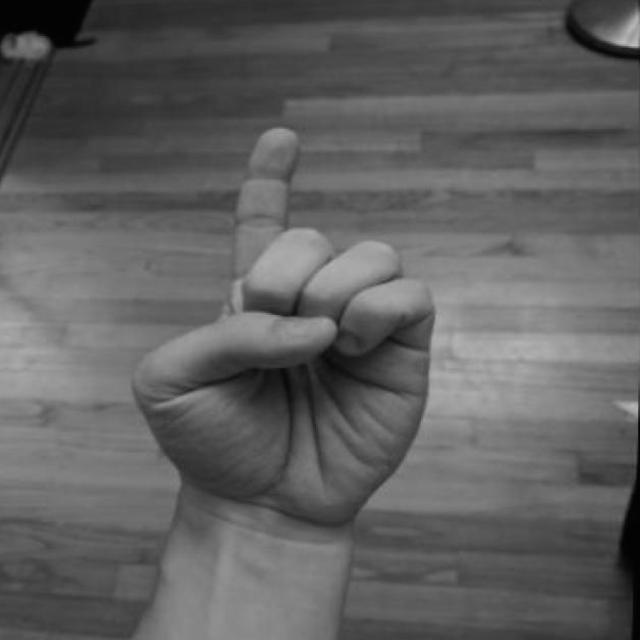D: (110, 111, 448, 563)
